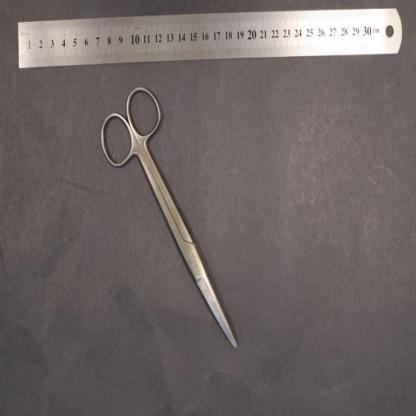Curved Mayo Scissors: (100, 82, 239, 349)
